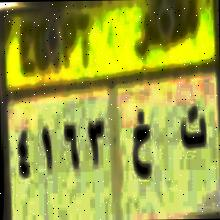1: (36, 122, 55, 181)
3: (85, 116, 106, 178)
4: (14, 122, 32, 184)
6: (62, 118, 80, 174)
khaa: (131, 108, 151, 182)
taa: (178, 92, 210, 160)
